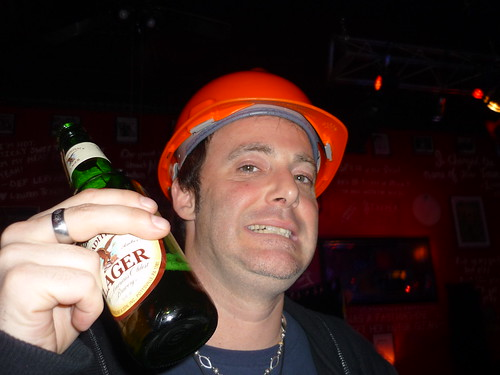person hardhat: (18, 60, 385, 375)
